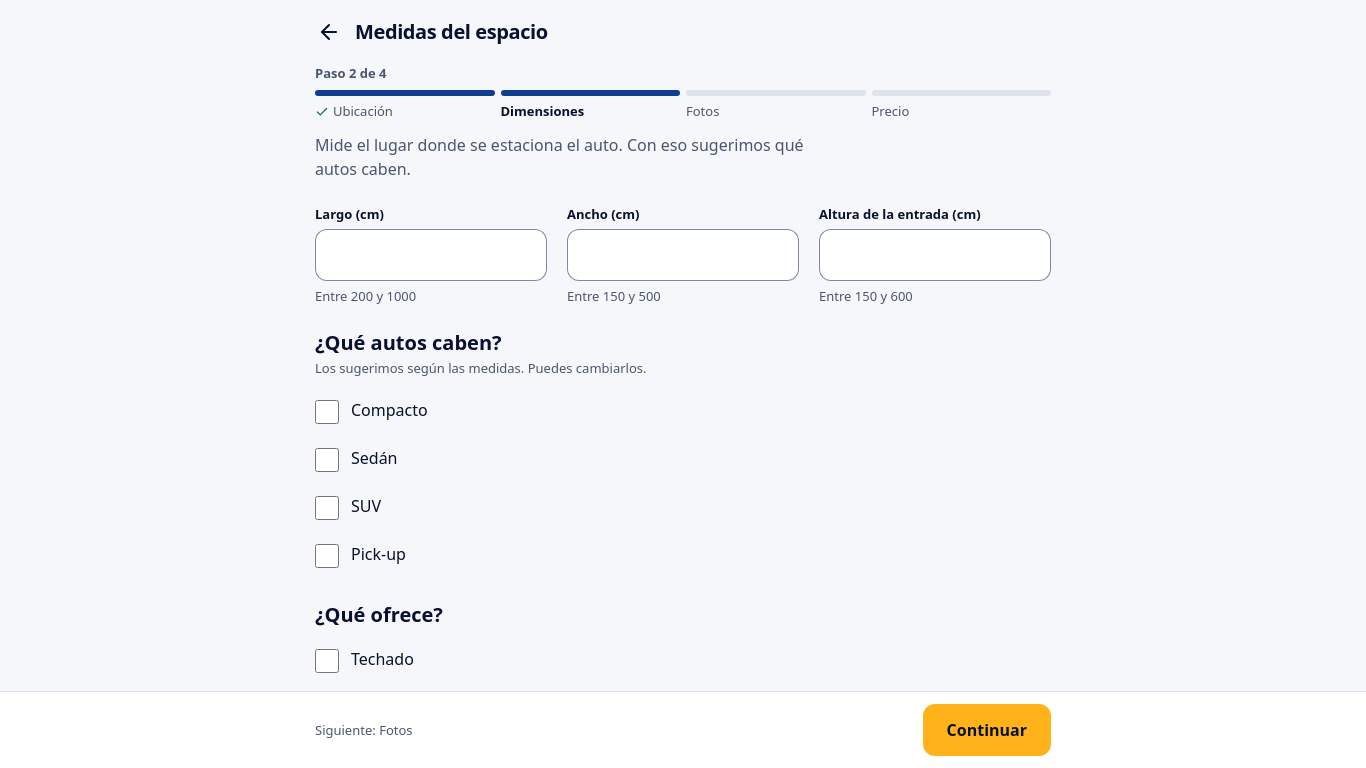
Test case: size step › suggests which cars fit as the measurements are typed
Expected: the heading "Medidas del espacio" is shown, [355,18,548,45]
Type "520" into the field labelled "Largo (cm)".
click(431, 255); type("520")  # box [331,229,531,281]
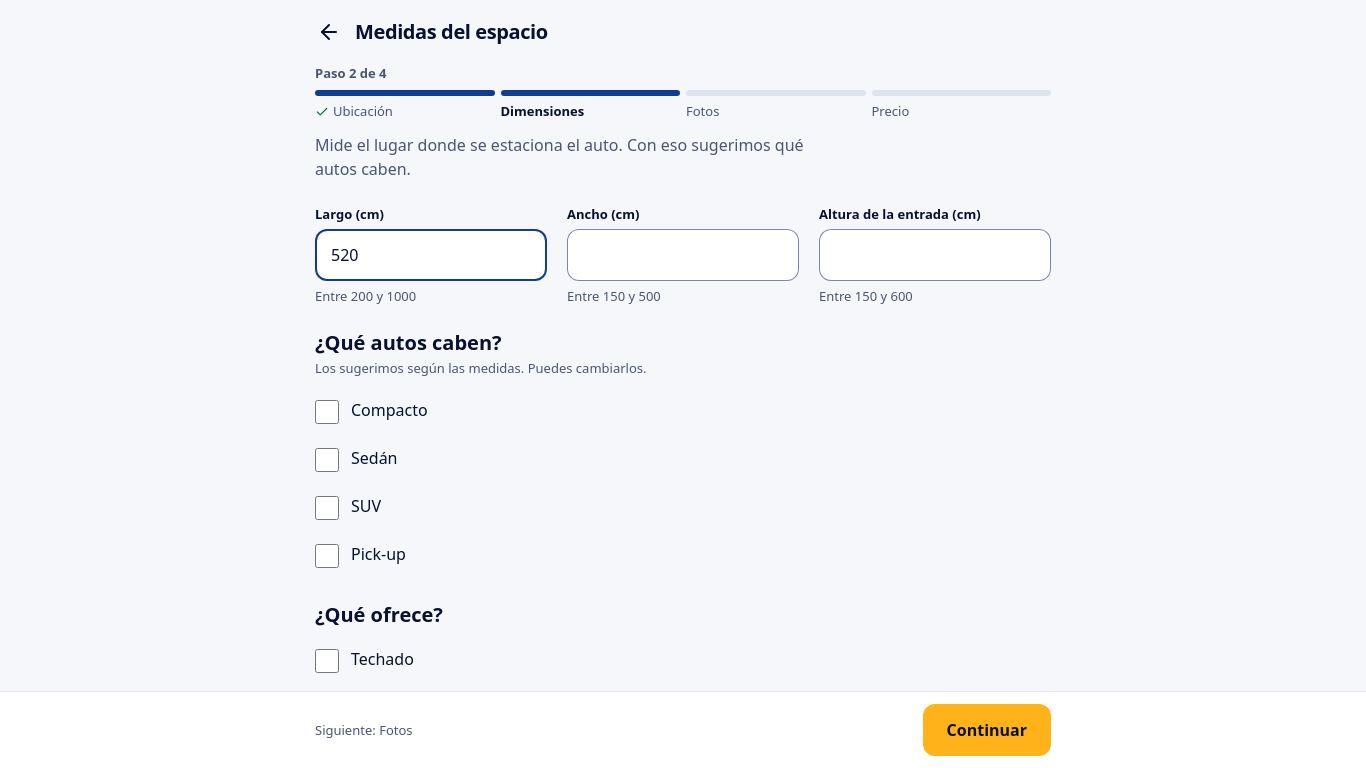
Type "300" into the field labelled "Ancho (cm)".
click(683, 255); type("300")  # box [583,229,783,281]
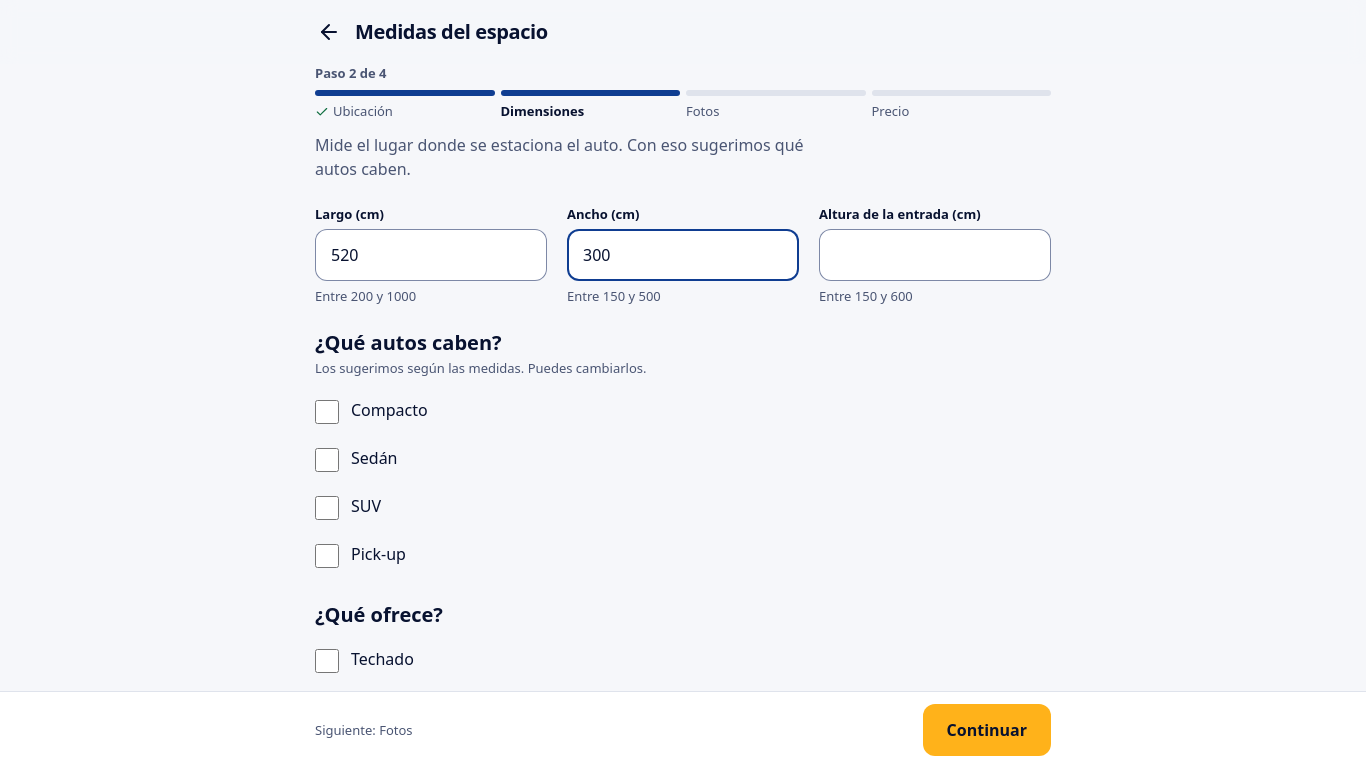
Type "230" into the field labelled "Altura de la entrada (cm)".
click(935, 255); type("230")  # box [835,229,1035,281]
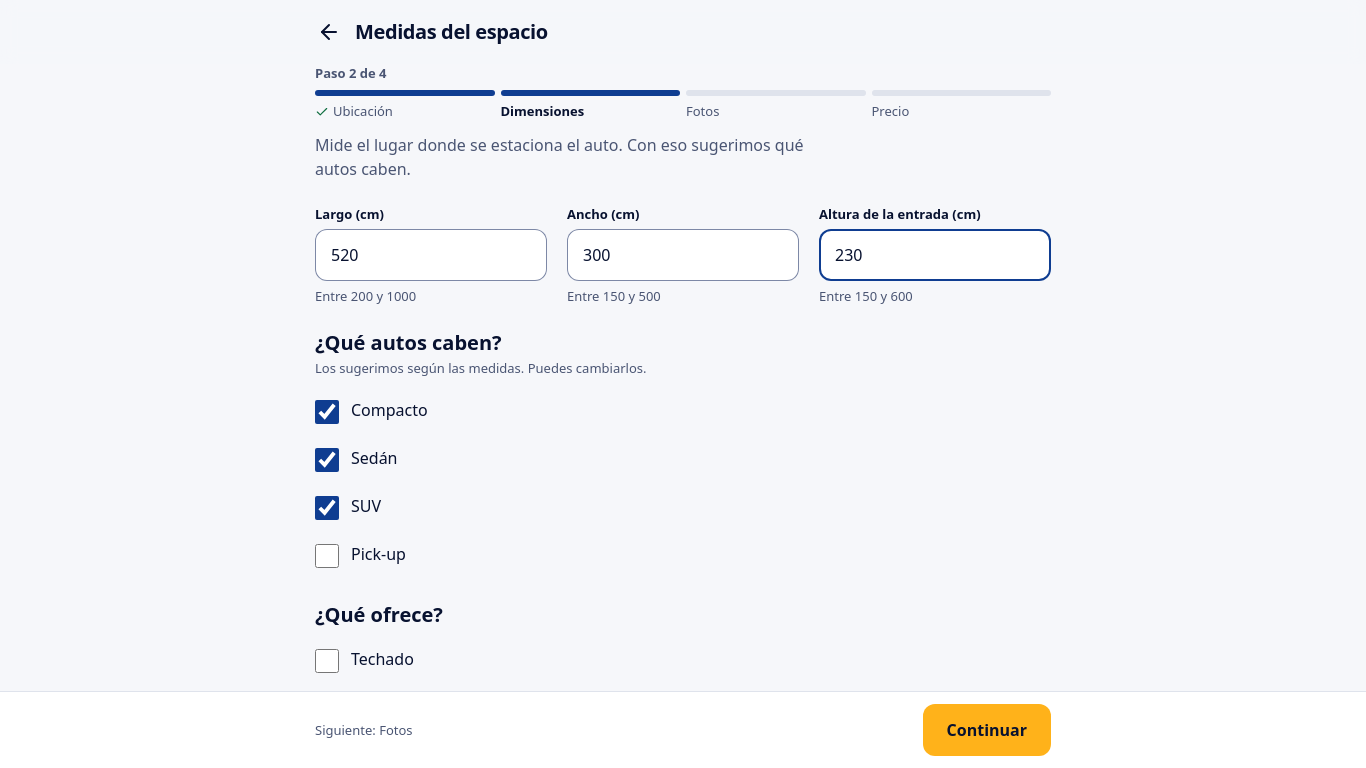
Expected: the checkbox labelled "Compacto" is checked, [315,400,339,424]
Expected: the checkbox labelled "Sedán" is checked, [315,448,339,472]
Expected: the checkbox labelled "SUV" is checked, [315,496,339,520]
